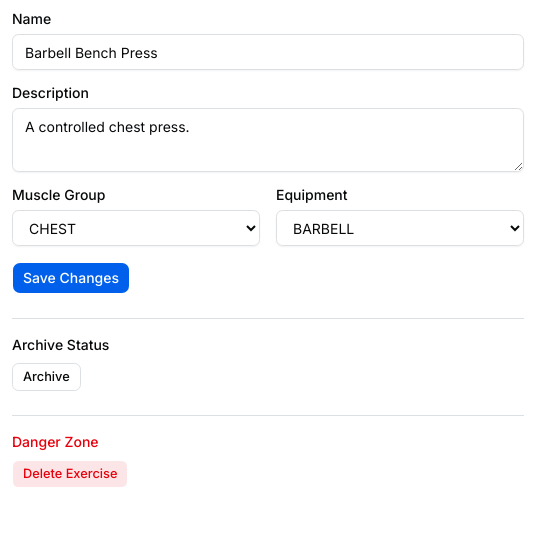
Test: EditExerciseForm › editExerciseForm_updateFails_showsServerErrorAndDoesNotRefresh
Click the button "Save Changes" at (71, 278), box [12, 262, 130, 294]
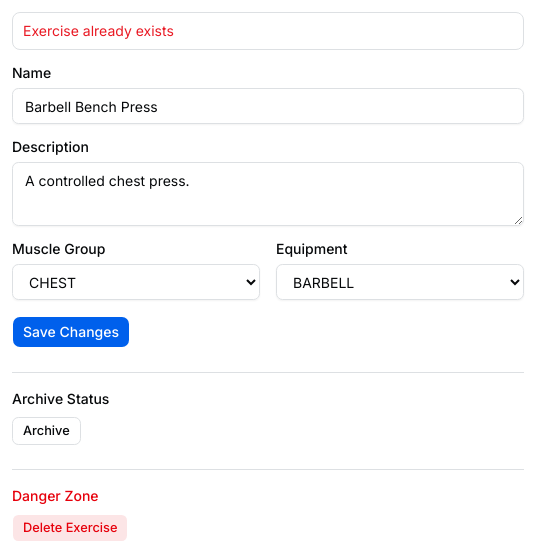
Expected: the button "Save Changes" is enabled, [12, 316, 130, 348]
Expected: the text "Exercise already exists" is shown, [23, 22, 174, 39]
